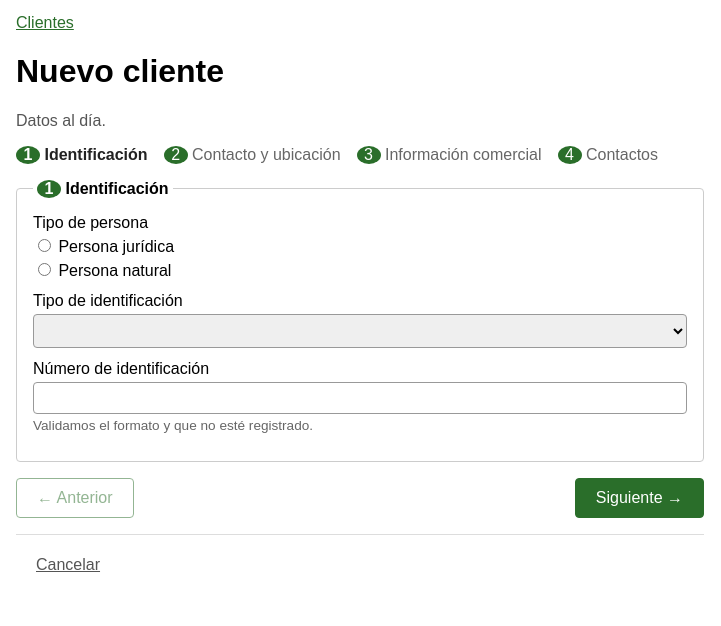
Scenario: CustomerNewComponent (/nuevo-prospecto) › asistente › ctl_6374a15df9:control — «Agregar contacto» está en «Contactos», secundario con user-add, y desactivado: el contrato admite un solo contacto
Click the button "Siguiente →": [639, 498] box [575,478,704,518]
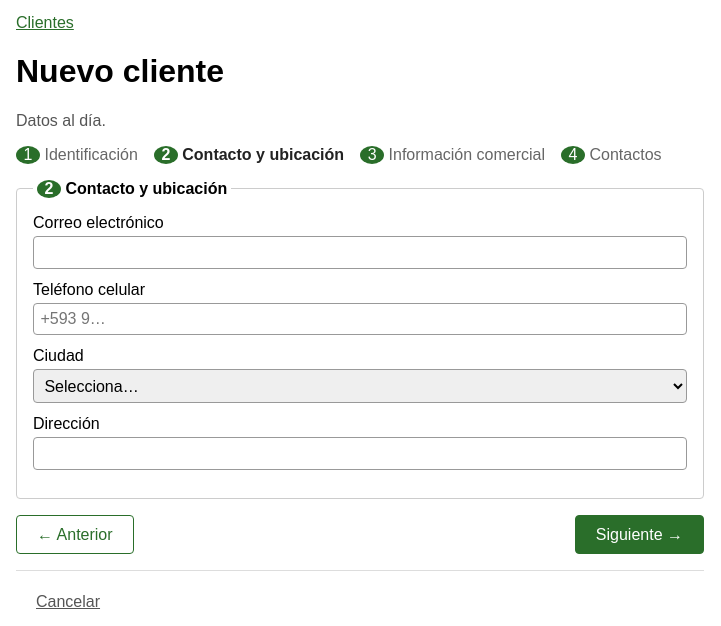
Click the button "Siguiente →": [639, 535] box [575,515,704,554]
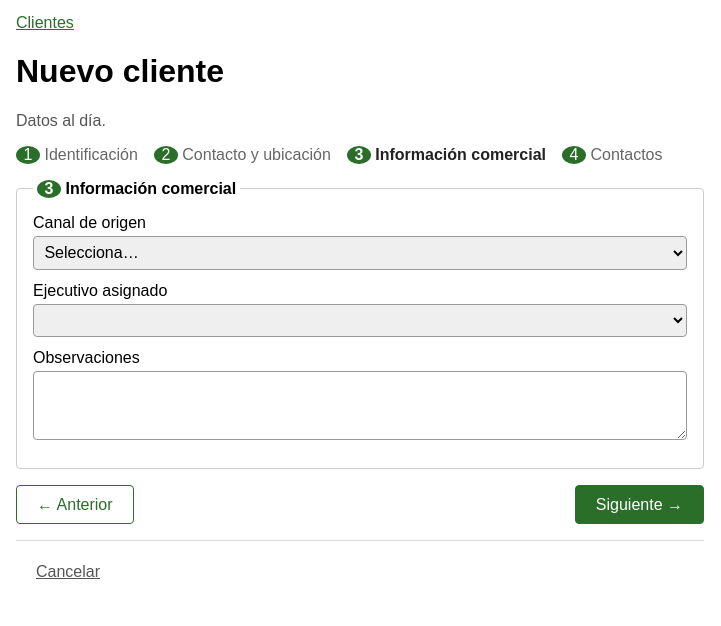
Click the button "Siguiente →": [639, 505] box [575,485,704,524]
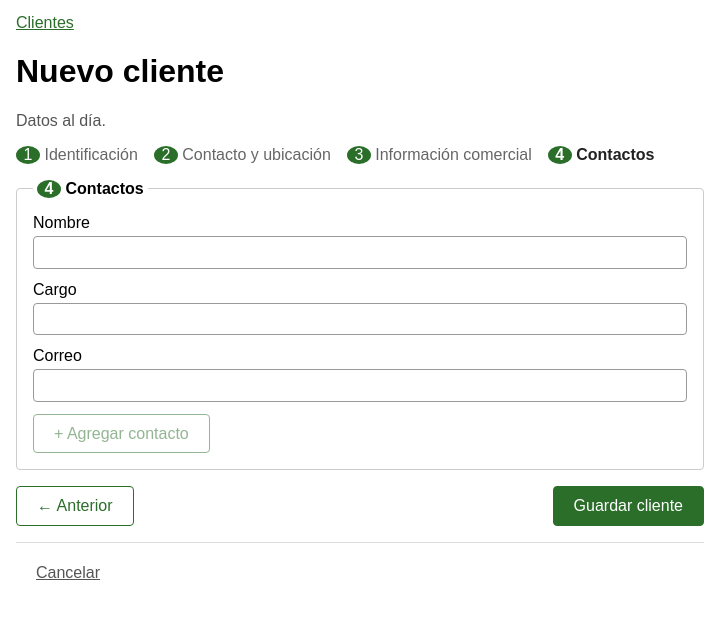
Expected: the icon "+" is shown, [54,425,63,442]
Now the button with class "btn-agregar-contacto" shows "Agregar contacto", box [33,414,210,453]
